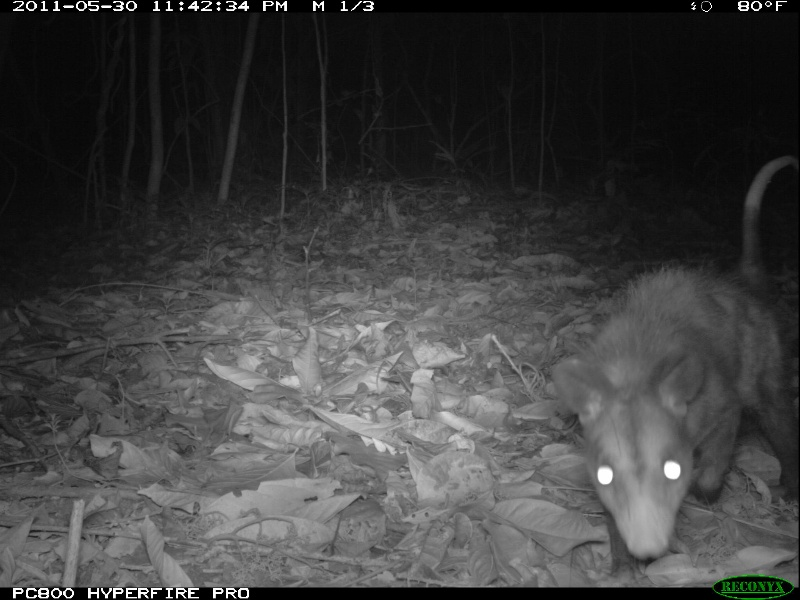opossum: (553, 151, 800, 561)
